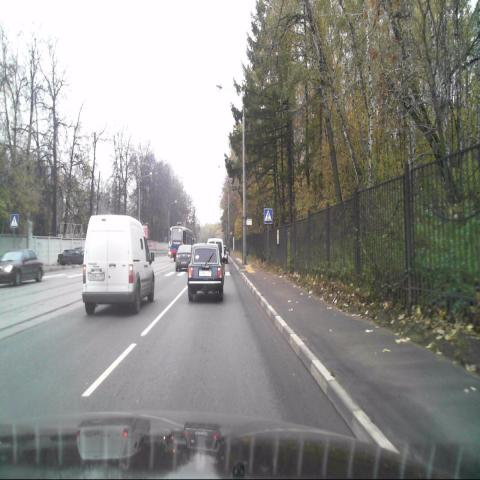5_19_1: (264, 209, 272, 223)
